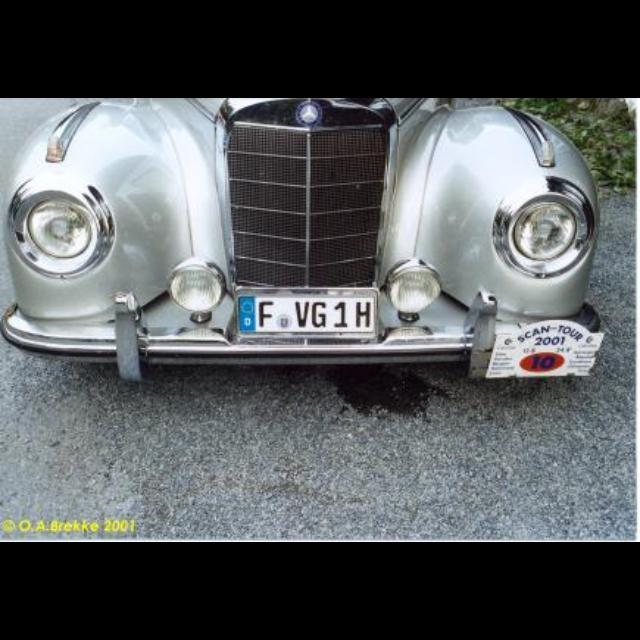d_license_plate: (237, 294, 373, 332)
